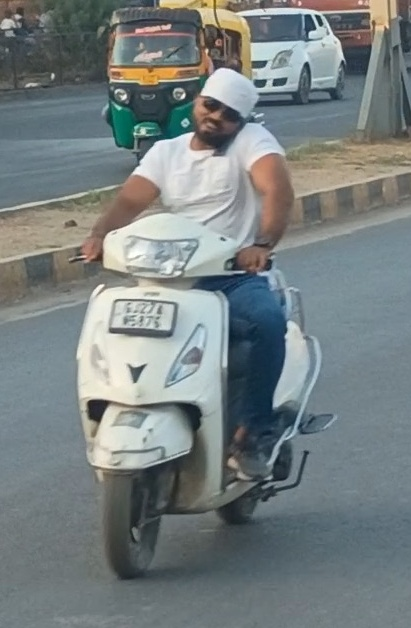BikeWithRider: (59, 59, 343, 585)
NoHelmet: (182, 62, 266, 149)
